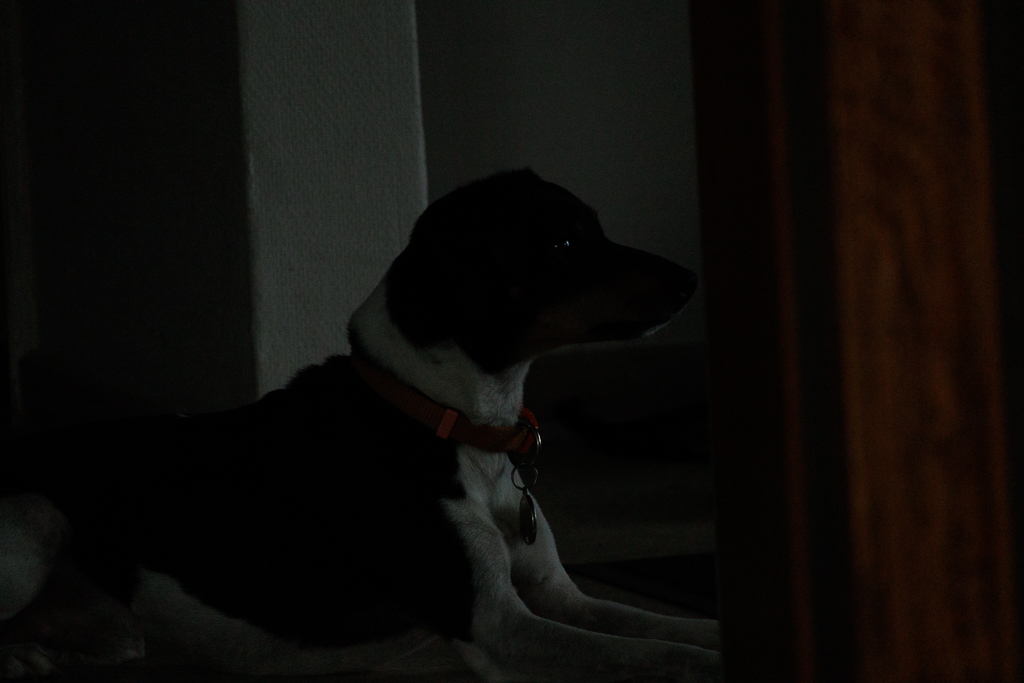Dog: (0, 153, 741, 683)
